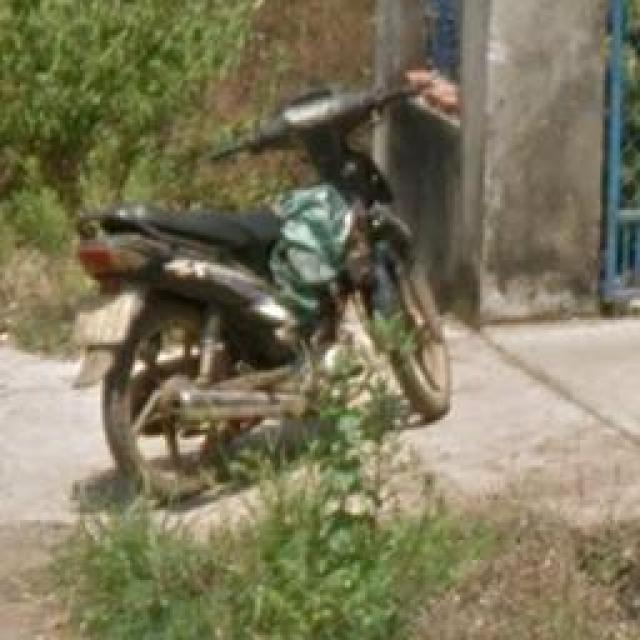motorbike: (72, 86, 452, 486)
